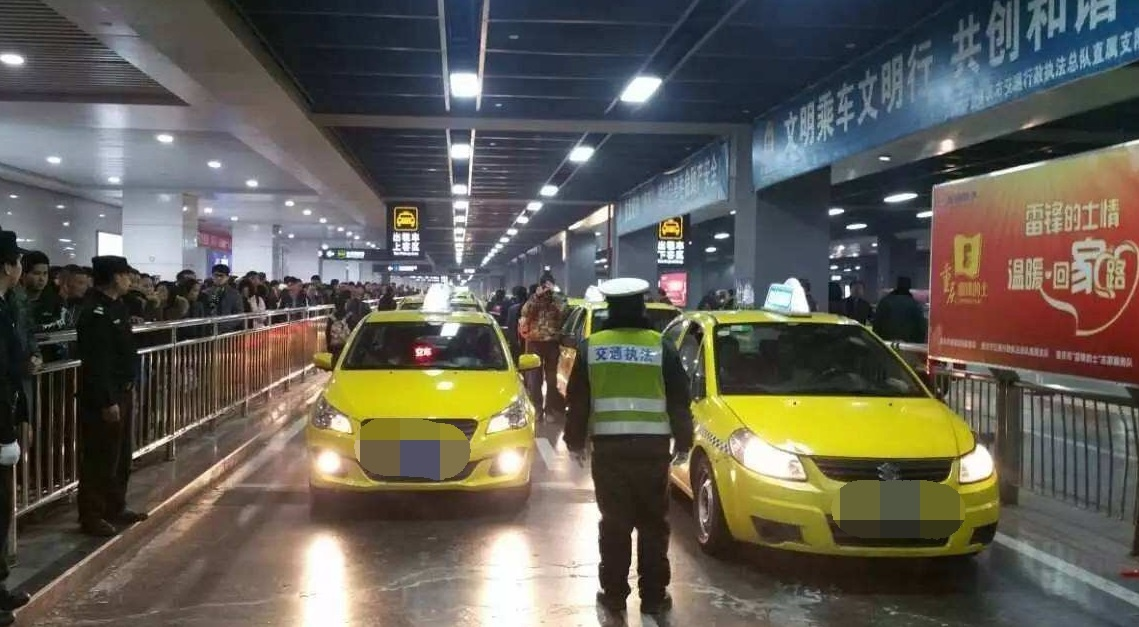taxi: (641, 290, 1005, 564), (302, 303, 556, 522)
